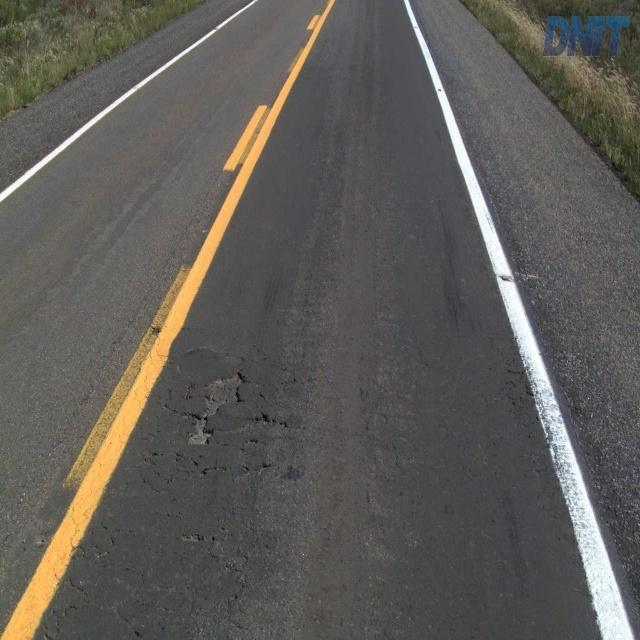pothole: (166, 364, 260, 463)
